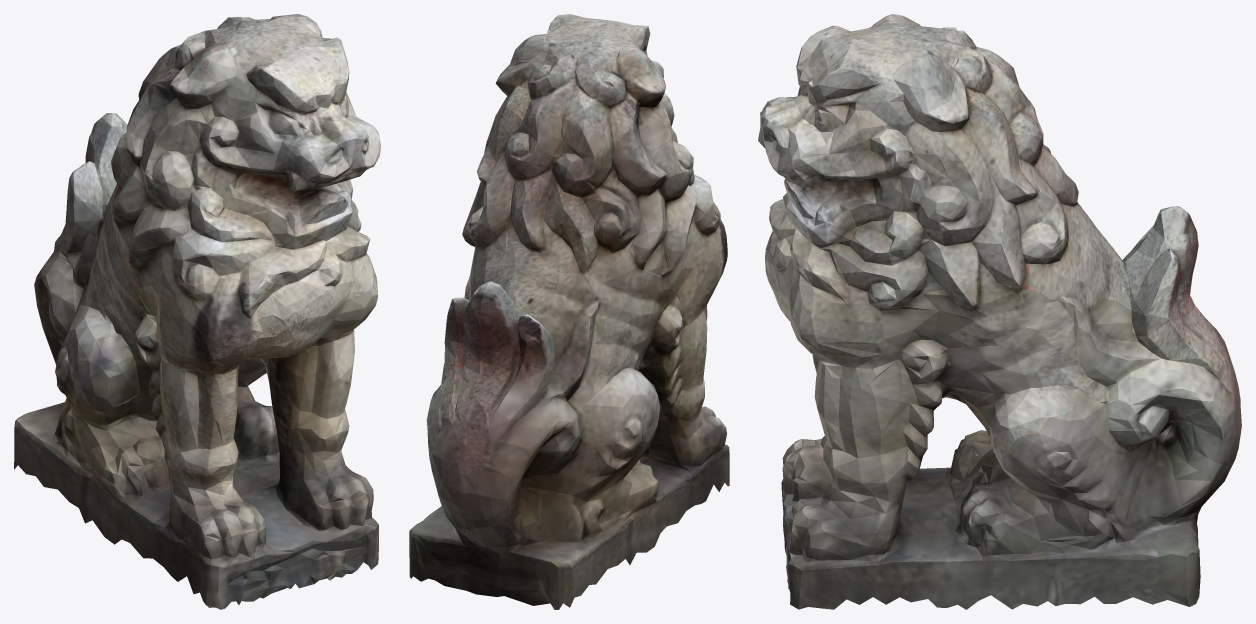
The model's file is komainu-scan.glb.
The picture shows the model from 3 angles, left to right: view 1: azimuth 30°, elevation 25°; view 2: azimuth 150°, elevation 25°; view 3: azimuth 270°, elevation 25°; orthographic projection. The views are drawn at different scales.
Bounding box in the file's own units: 0.4619 × 1.03 × 0.8348.
1 material, 1 textured.
